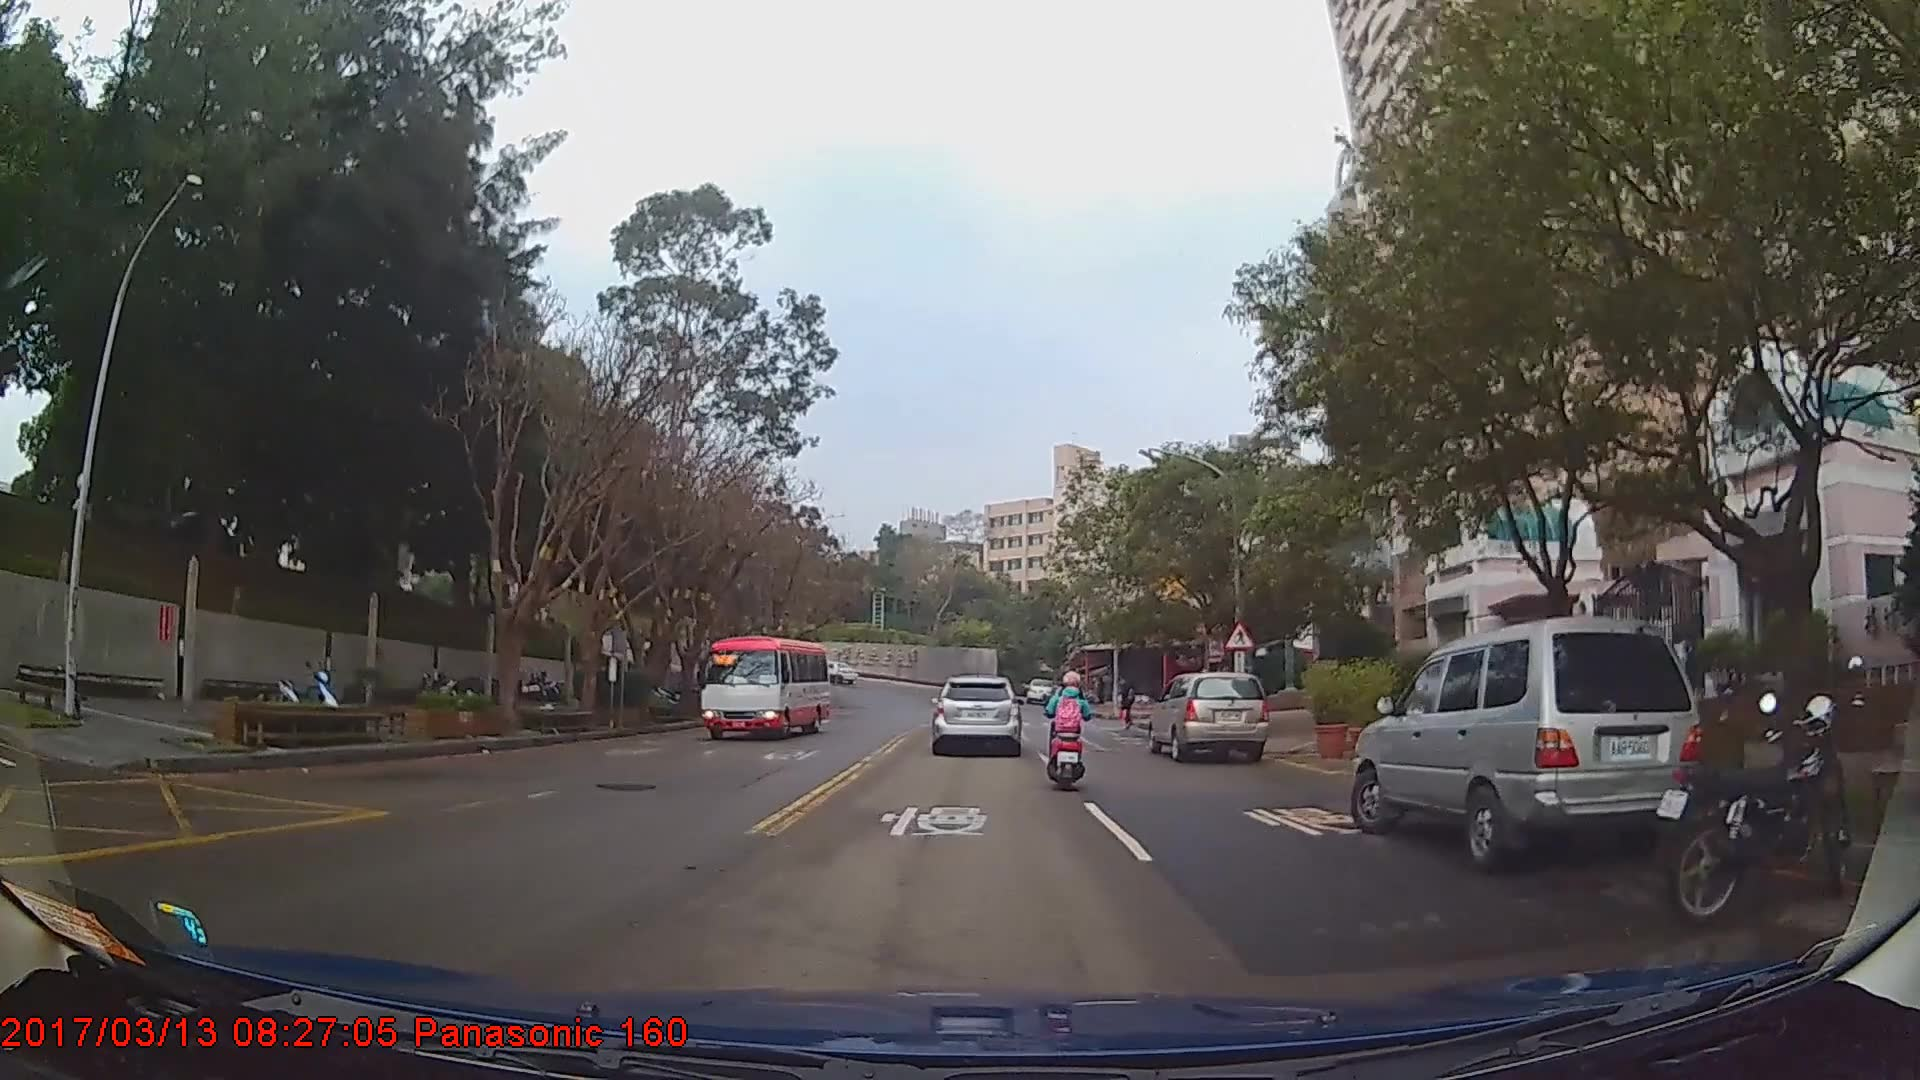pedestrian: (1115, 674, 1140, 735)
rider: (1041, 666, 1096, 796)
vehicle: (1353, 613, 1705, 875), (700, 633, 831, 740), (1147, 670, 1268, 763), (930, 674, 1024, 757), (815, 659, 858, 686), (1025, 678, 1056, 704)
